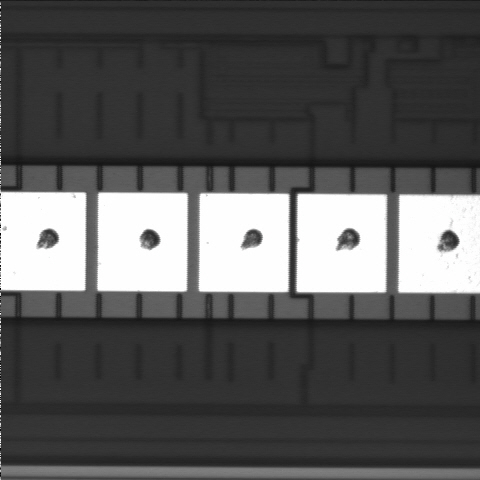pad: (199, 193, 289, 292), (297, 194, 387, 292), (98, 193, 187, 291)
